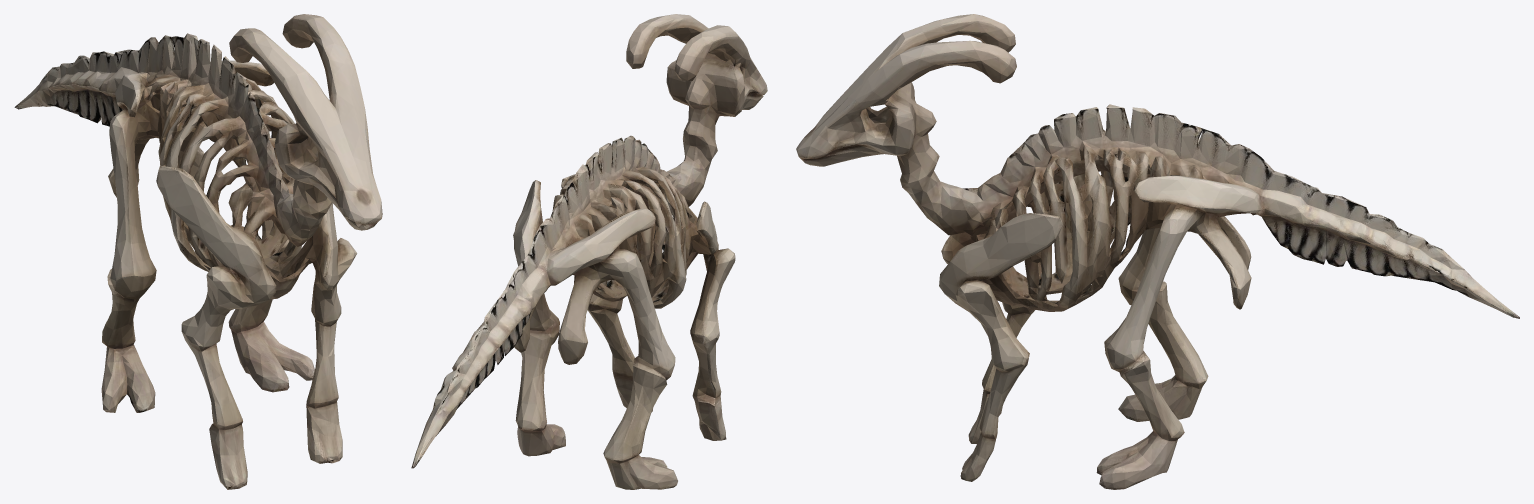
Rendered from parasaurolophus-skjelett.glb.
3 renders of one model, left to right at view 1: azimuth 30°, elevation 25°; view 2: azimuth 150°, elevation 25°; view 3: azimuth 270°, elevation 25°, orthographic. The views are drawn at different scales.
Parts seen in each view (by area): view 1: geometry_0; view 2: geometry_0; view 3: geometry_0.
Boxes of the visible parts, x1=… form: geometry_0: x1=14, y1=14, x2=382, y2=489; geometry_0: x1=411, y1=14, x2=767, y2=489; geometry_0: x1=796, y1=14, x2=1519, y2=489.
Size of the model in its own units: 0.2962 by 0.6633 by 0.9983.
1 material, 1 textured.
